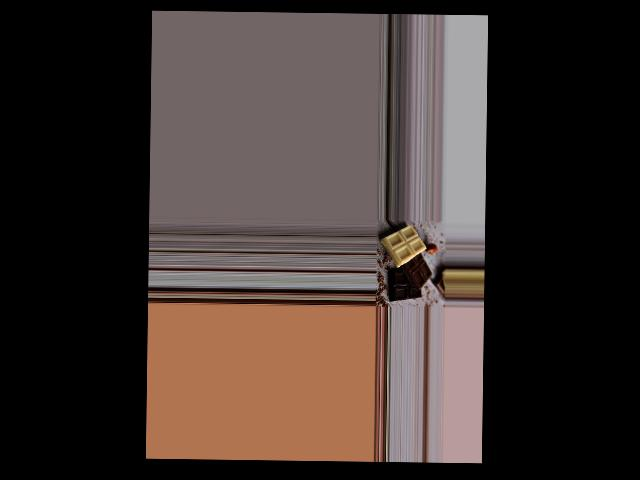chocolate: (384, 224, 432, 305)
